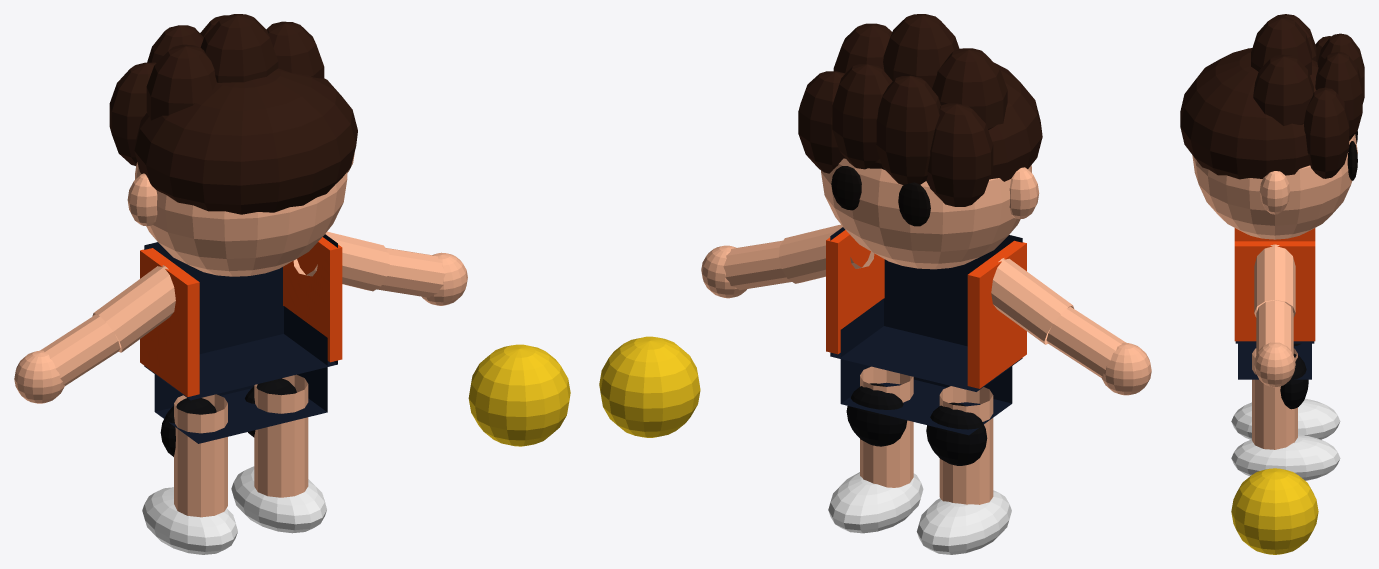
The model's file is ChibiVolleyballPlayer.obj.
3 renders of one model, left to right at view 1: azimuth 30°, elevation 25°; view 2: azimuth 150°, elevation 25°; view 3: azimuth 270°, elevation 25°, orthographic. The views are drawn at different scales.
Parts seen in each view (by area): view 1: Hair, Head, Jersey, Volleyball, Shorts, Leg_L, JerseyAccent_L, Leg_R, JerseyAccent_R, HairTuft_6, Shoe_L, HairTuft_5 (+12 smaller); view 2: Head, Jersey, Volleyball, Shorts, HairTuft_2, HairTuft_1, JerseyAccent_L, JerseyAccent_R, HairTuft_3, Shoe_L, Shoe_R, HairTuft_5 (+17 smaller); view 3: Hair, Head, Volleyball, JerseyAccent_R, HairTuft_4, HairTuft_7, Shoe_R, Leg_R, UpperArm_R, HairTuft_6, HairTuft_3, Shoe_L (+9 smaller).
Part boxes in pixels (x1,y1,x2,y2): Hair: (134,68,357,214); Head: (135,162,347,276); Jersey: (144,234,337,400); Volleyball: (468,344,570,446); Shorts: (154,306,327,443); Leg_L: (174,394,227,517); JerseyAccent_L: (140,248,199,396); Leg_R: (254,374,308,497); JerseyAccent_R: (283,237,342,362); HairTuft_6: (200,14,278,82); Shoe_L: (142,487,237,554); HairTuft_5: (146,44,216,120); Head: (821,158,1031,269); Jersey: (830,227,1022,391); Volleyball: (599,336,700,437); Shorts: (840,298,1012,435); HairTuft_2: (876,75,940,184); HairTuft_1: (926,103,993,206); JerseyAccent_L: (967,240,1026,388); JerseyAccent_R: (826,230,884,354); HairTuft_3: (832,64,892,169); Shoe_L: (916,490,1011,554); Shoe_R: (828,472,923,533); HairTuft_5: (932,48,1007,129); Hair: (1180,48,1318,179); Head: (1192,134,1357,239); Volleyball: (1231,468,1318,554); JerseyAccent_R: (1234,241,1315,341); HairTuft_4: (1303,87,1349,178); HairTuft_7: (1253,54,1313,125); Shoe_R: (1231,434,1340,480); Leg_R: (1252,348,1297,449); UpperArm_R: (1254,244,1295,317); HairTuft_6: (1251,16,1311,75); HairTuft_3: (1315,52,1362,140); Shoe_L: (1231,398,1340,439).
Bounding box in the file's own units: 2.46 × 2.23 × 0.8452.
